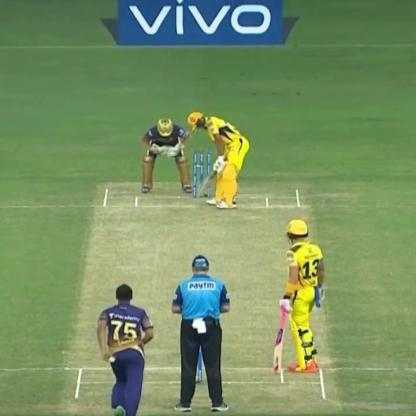ball: (106, 354, 116, 368)
bat: (199, 152, 225, 200)
pitch: (66, 180, 341, 416)
